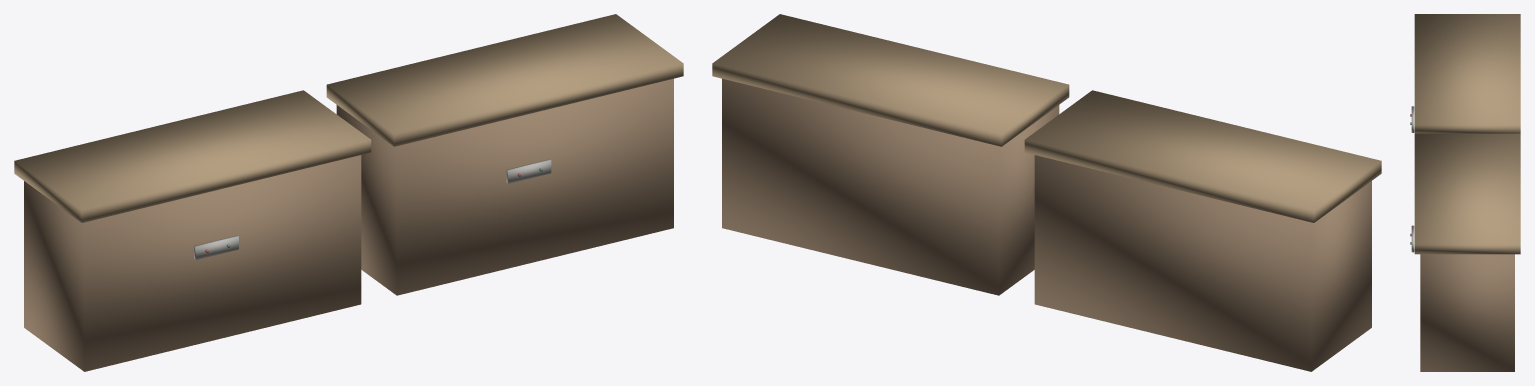
Rendered from funeral_reception_counter__cluster.glb.
3 renders of one model, left to right at view 1: azimuth 30°, elevation 25°; view 2: azimuth 150°, elevation 25°; view 3: azimuth 270°, elevation 25°, orthographic. The views are drawn at different scales.
Parts seen in each view (by area): view 1: world; view 2: world; view 3: world.
Boxes of the visible parts, x1,y1,x2,y2 form: world: [14, 14, 683, 371]; world: [712, 14, 1381, 371]; world: [1410, 14, 1520, 371].
Bounding box in the file's own units: 3.91 × 1.03 × 0.791.
